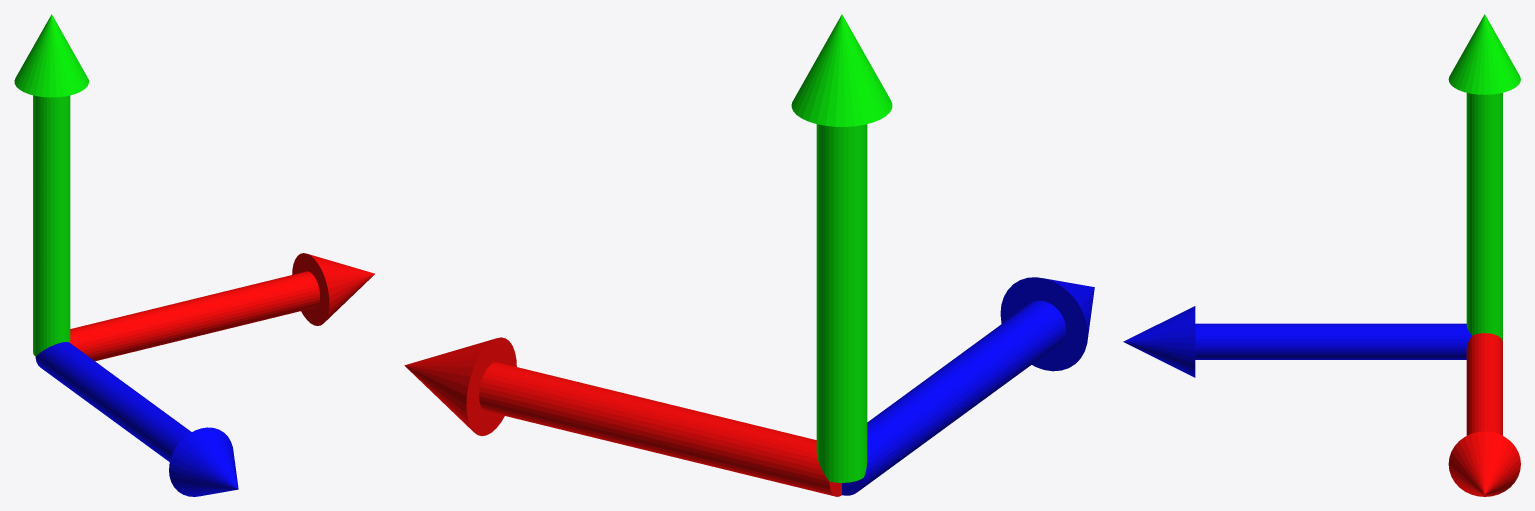
Rendered from Axis.glb.
3 views of the same model, side by side, from view 1: azimuth 30°, elevation 25°; view 2: azimuth 150°, elevation 25°; view 3: azimuth 270°, elevation 25° (orthographic). The views are drawn at different scales.
Parts seen in each view (by area): view 1: Up, Right, Front; view 2: Up, Right, Front; view 3: Front, Up, Right.
Part boxes in pixels (x1=…): Up: x1=14, y1=14, x2=88, y2=356; Right: x1=70, y1=253, x2=374, y2=361; Front: x1=35, y1=342, x2=238, y2=496; Up: x1=791, y1=14, x2=892, y2=482; Right: x1=404, y1=337, x2=841, y2=496; Front: x1=842, y1=277, x2=1094, y2=495; Front: x1=1123, y1=306, x2=1471, y2=377; Up: x1=1448, y1=14, x2=1520, y2=341; Right: x1=1448, y1=333, x2=1520, y2=496.
Bounding box in the file's own units: 1.1 × 1.1 × 1.1.
